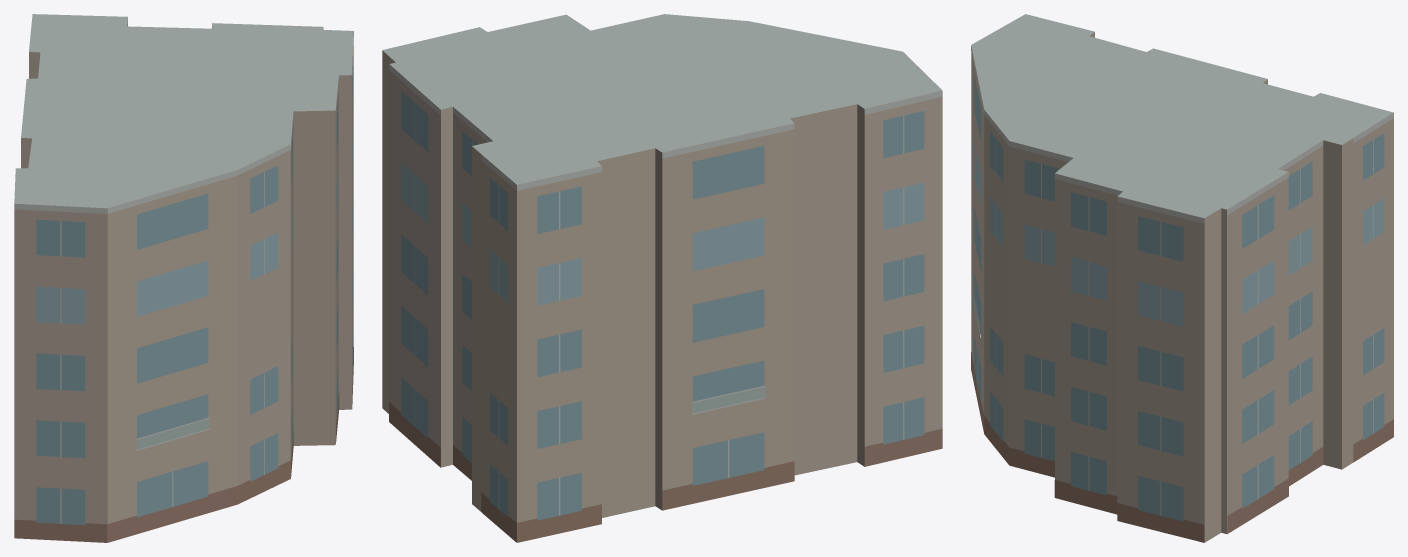
File: survey-upis-32931883.glb
The picture shows the model from 3 angles, left to right: view 1: azimuth 30°, elevation 25°; view 2: azimuth 150°, elevation 25°; view 3: azimuth 270°, elevation 25°; orthographic projection. The views are drawn at different scales.
Visible parts, largest first — view 1: survey-upis-32931883.tmp; view 2: survey-upis-32931883.tmp; view 3: survey-upis-32931883.tmp.
Boxes of the visible parts, box(x1,y1,x2,y2) form: survey-upis-32931883.tmp: box(14, 14, 353, 542); survey-upis-32931883.tmp: box(382, 14, 942, 542); survey-upis-32931883.tmp: box(971, 14, 1393, 542).
Size of the model in its own units: 19.45 by 14.4 by 17.01.
